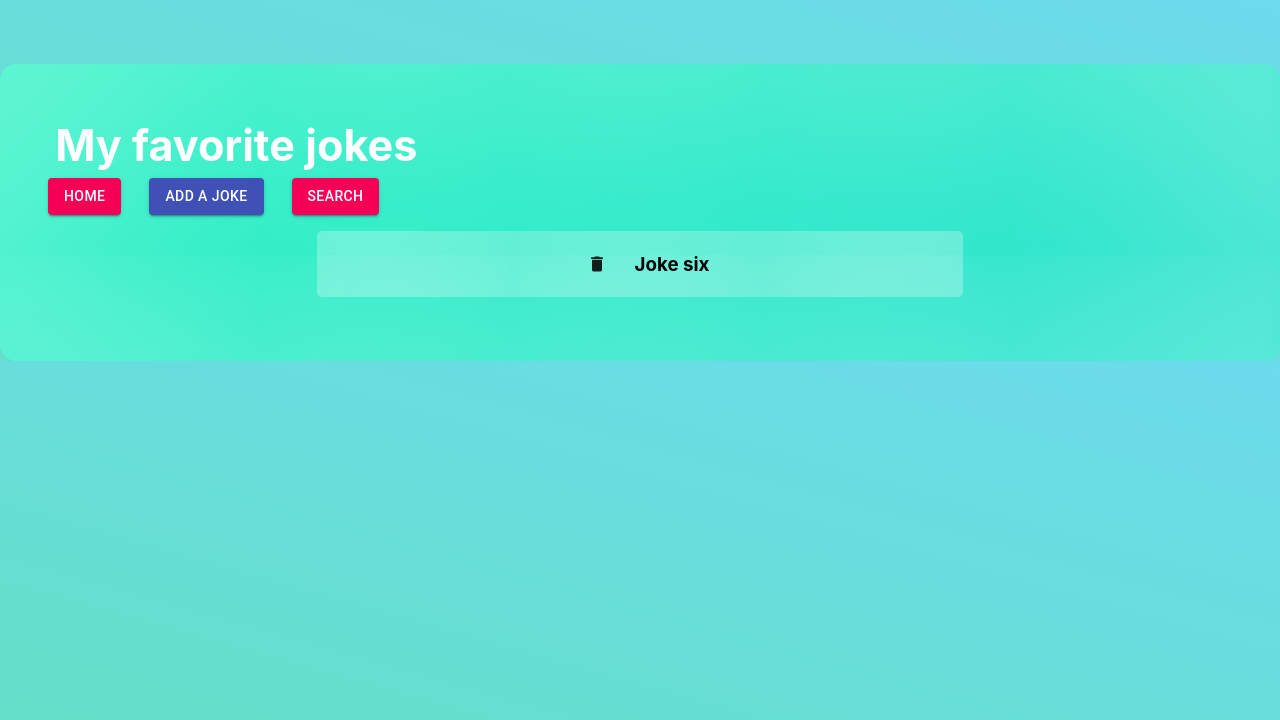
Saved › should show an error message when input is empty
Click the button "Add a joke".
click(206, 197)  # box [149, 178, 264, 215]
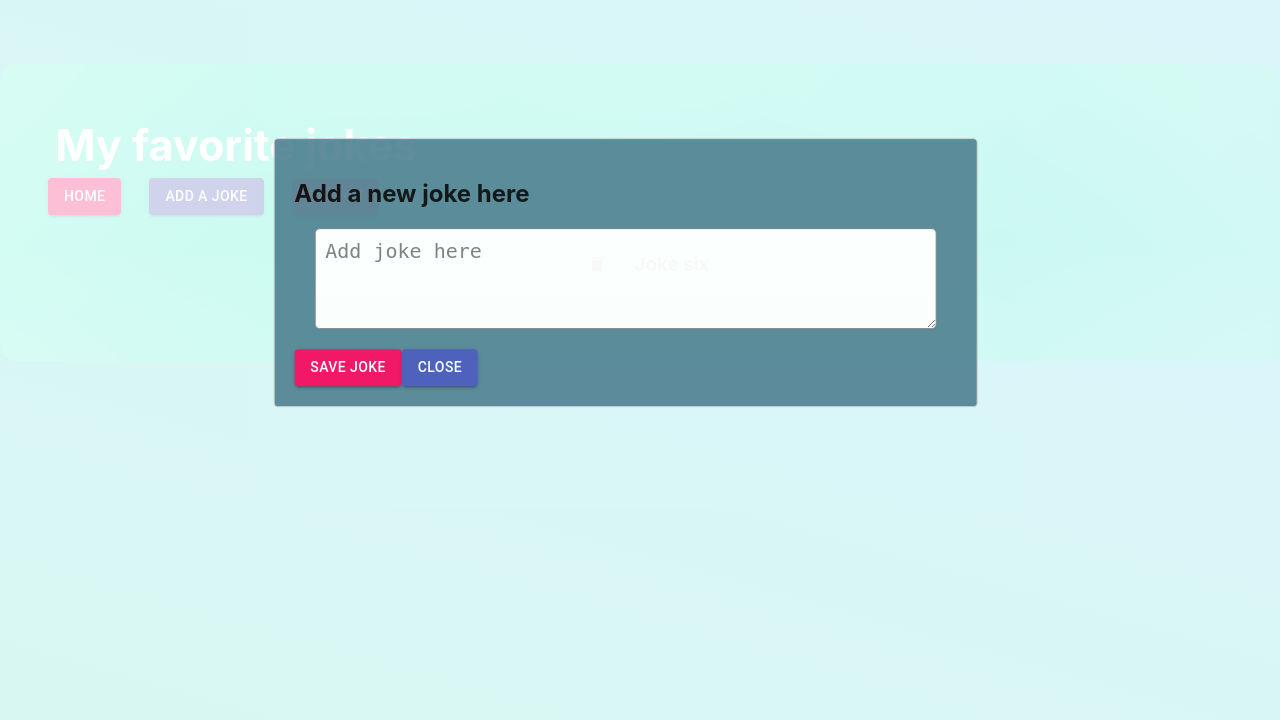
Expected: the heading "Add a new joke here" is shown, [294, 179, 530, 208]
Click the button "Save joke".
click(348, 368)  # box [294, 349, 402, 386]
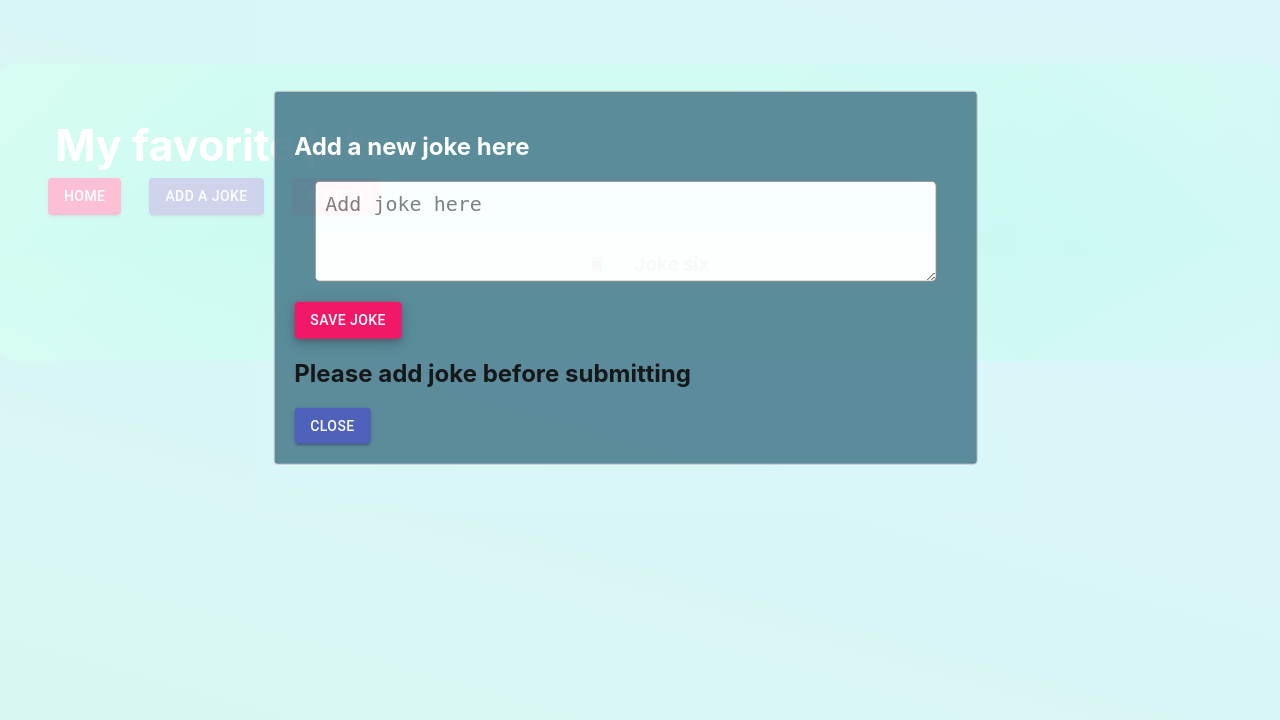
Expected: the heading "Please add joke before submitting" is shown, [294, 358, 691, 387]
